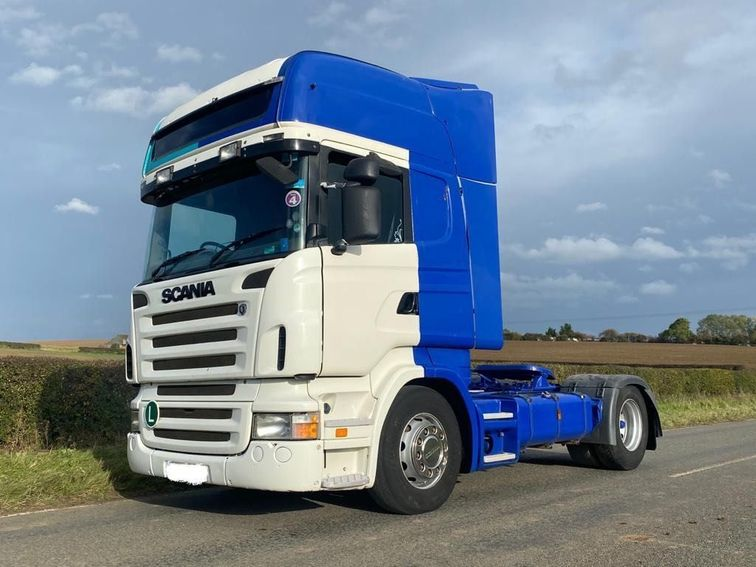Semi: (124, 49, 662, 514)
